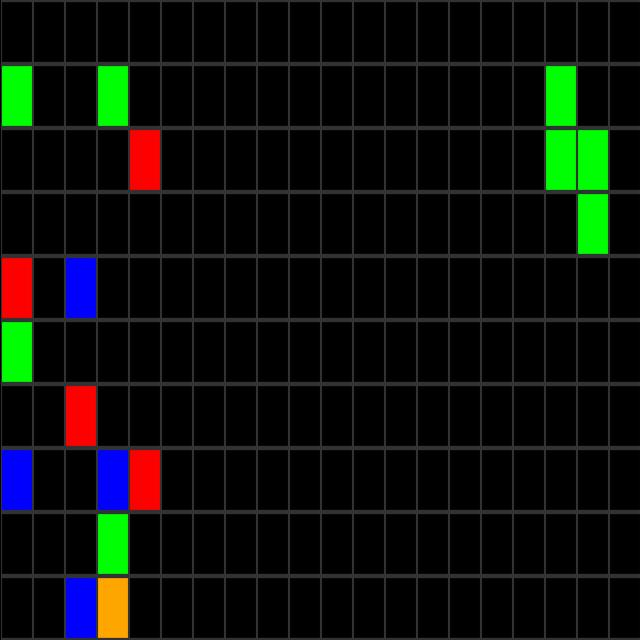Tetrimino_T: (544, 62, 606, 255)
